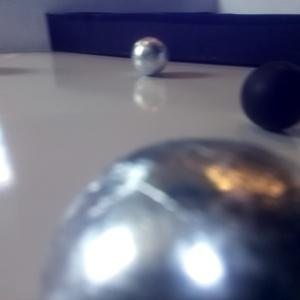zone: (48, 11, 300, 69)
